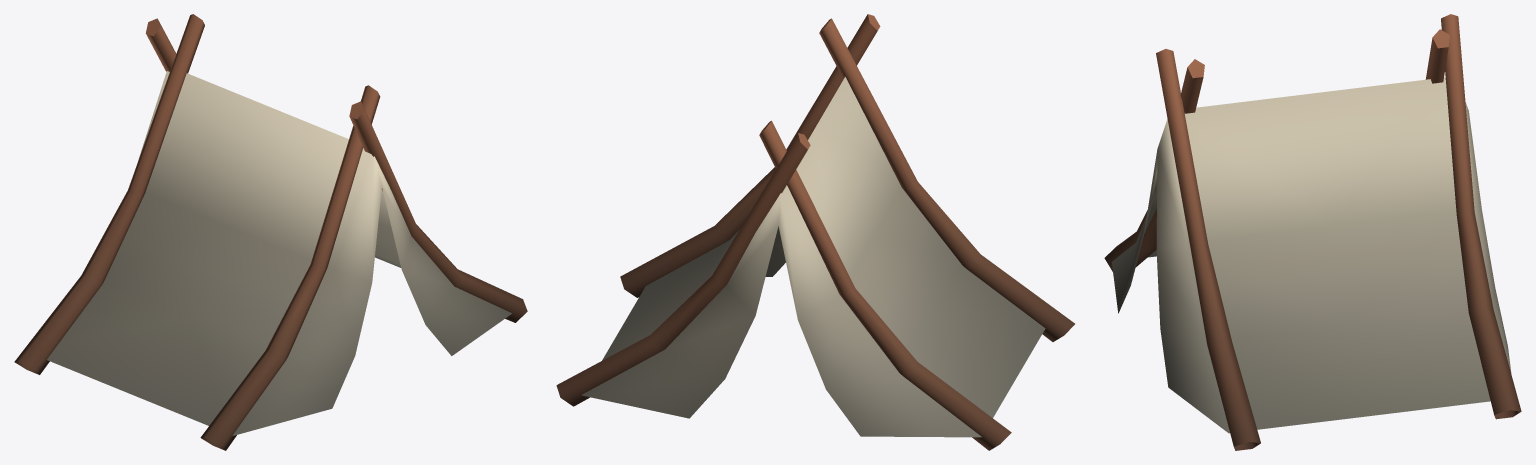
Rendered from tent9.fbx.
3 renders of one model, left to right at view 1: azimuth 30°, elevation 25°; view 2: azimuth 150°, elevation 25°; view 3: azimuth 270°, elevation 25°, orthographic. The views are drawn at different scales.
Parts seen in each view (by area): view 1: tent9; view 2: tent9; view 3: tent9.
Part boxes in pixels (x1=…): tent9: x1=14, y1=14, x2=527, y2=450; tent9: x1=556, y1=14, x2=1074, y2=450; tent9: x1=1104, y1=14, x2=1521, y2=450.
Size of the model in its own units: 687 by 434 by 534.
